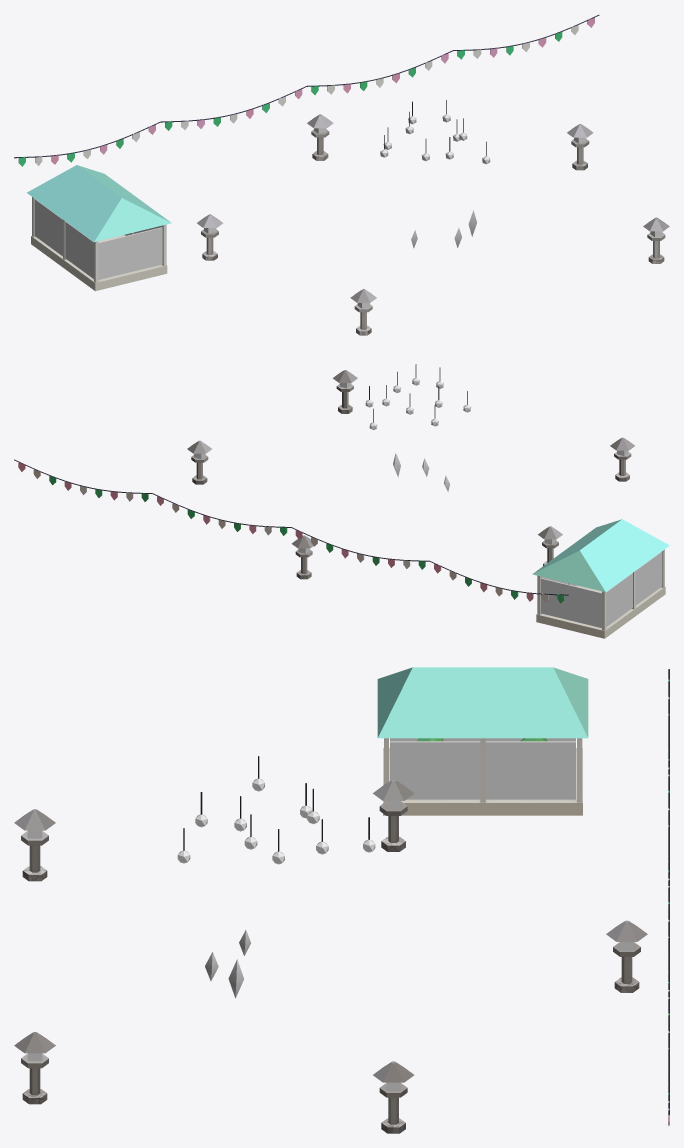
Rendered from area_spring_5_5.fbx.
The picture shows the model from 3 angles, top to bottom: view 1: azimuth 30°, elevation 25°; view 2: azimuth 150°, elevation 25°; view 3: azimuth 270°, elevation 25°; orthographic projection. The views are drawn at different scales.
Parts seen in each view (by area): view 1: area_spring_5_5_body, area_spring_5_5_body_glow, area_spring_5_5_body3_glow; view 2: area_spring_5_5_body, area_spring_5_5_body_glow, area_spring_5_5_body3_glow; view 3: area_spring_5_5_body, area_spring_5_5_body_glow, area_spring_5_5_body3_glow, area_spring_5_5_body4_glow.
Boxes of the visible parts, left/top/right/bottom form: area_spring_5_5_body: left=14, top=14, right=669, bottom=335; area_spring_5_5_body_glow: left=34, top=199, right=162, bottom=279; area_spring_5_5_body3_glow: left=380, top=114, right=490, bottom=164; area_spring_5_5_body: left=14, top=364, right=669, bottom=638; area_spring_5_5_body_glow: left=541, top=551, right=662, bottom=627; area_spring_5_5_body3_glow: left=365, top=378, right=471, bottom=429; area_spring_5_5_body: left=14, top=667, right=669, bottom=1133; area_spring_5_5_body_glow: left=390, top=738, right=575, bottom=799; area_spring_5_5_body3_glow: left=177, top=778, right=375, bottom=864; area_spring_5_5_body4_glow: left=205, top=930, right=250, bottom=998.
Size of the model in its own units: 15353 by 3050 by 9342.
Materials: 2 (1 with a texture image).
